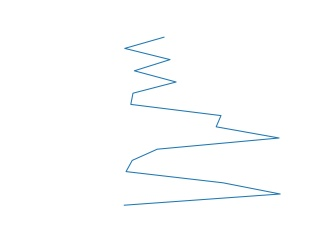majorRiverBedLagDeposit: (118, 35, 283, 208)
